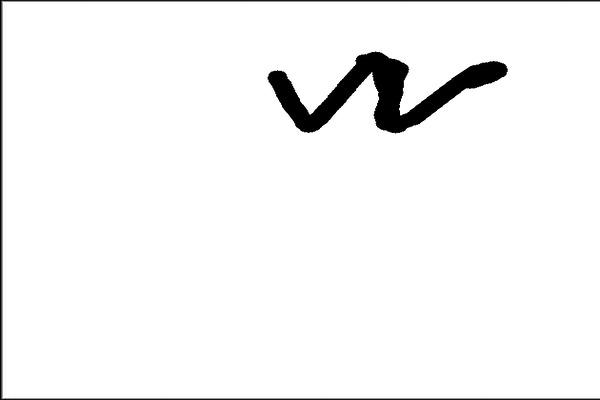w: (234, 39, 512, 149)
